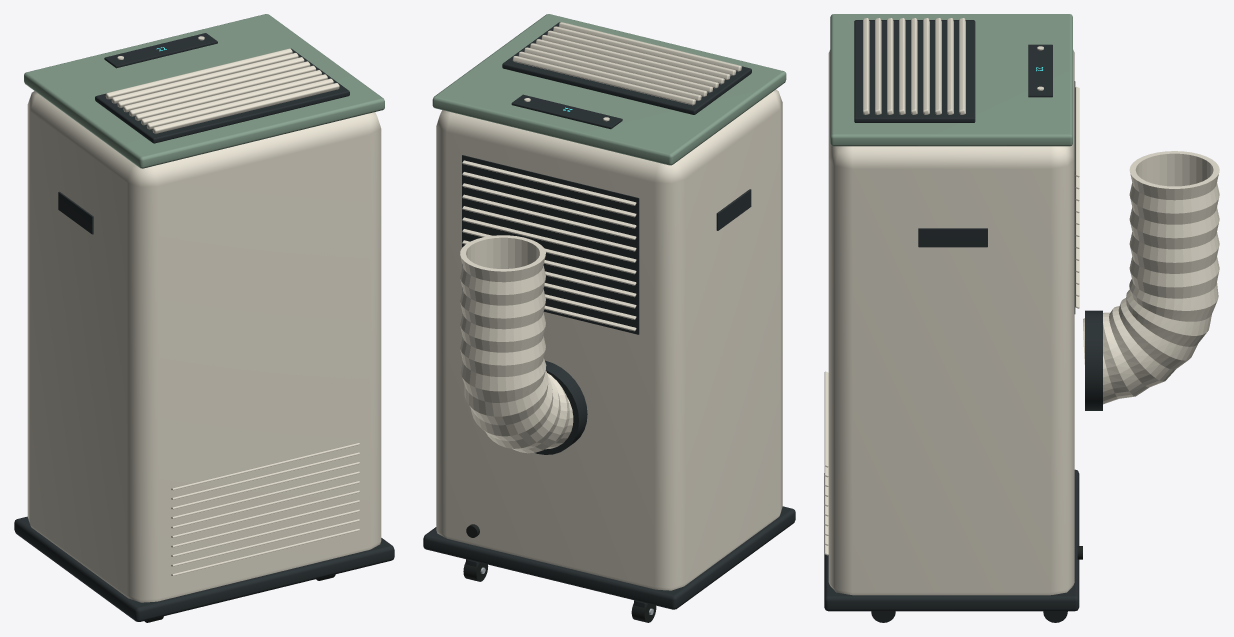
File: utility-portable-ac.glb
The picture shows the model from 3 angles, left to right: view 1: azimuth 30°, elevation 25°; view 2: azimuth 150°, elevation 25°; view 3: azimuth 270°, elevation 25°; orthographic projection. The views are drawn at different scales.
Parts seen in each view (by area): view 1: catalog_surface_RealismUV, catalog_surface_UVMap; view 2: catalog_surface_RealismUV, catalog_surface_UVMap; view 3: catalog_surface_RealismUV, catalog_surface_UVMap.
Boxes of the visible parts, <box> form: catalog_surface_RealismUV: <box>24,14,384,622</box>; catalog_surface_UVMap: <box>14,33,394,621</box>; catalog_surface_RealismUV: <box>432,14,786,622</box>; catalog_surface_UVMap: <box>423,22,795,609</box>; catalog_surface_RealismUV: <box>824,14,1219,622</box>; catalog_surface_UVMap: <box>824,20,1102,611</box>.
Size of the model in its own units: 0.45 by 0.83 by 0.58.
